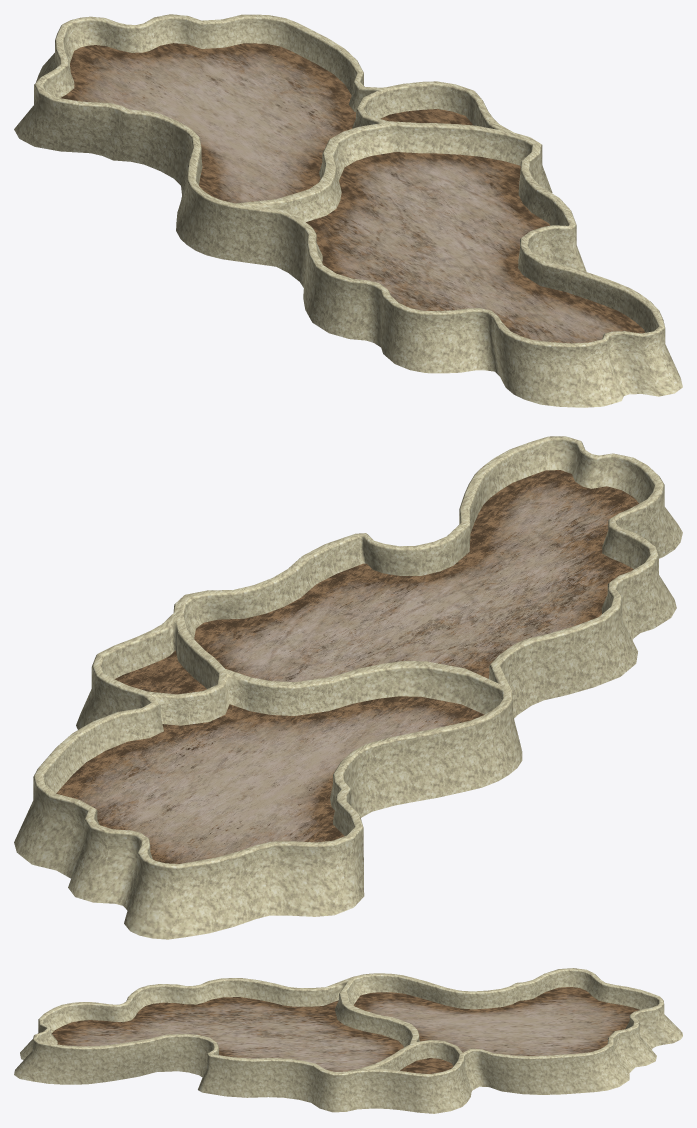
The model's file is Plates_Long.fbx.
3 renders of one model, top to bottom at view 1: azimuth 30°, elevation 25°; view 2: azimuth 150°, elevation 25°; view 3: azimuth 270°, elevation 25°, orthographic. The views are drawn at different scales.
Visible parts, largest first — view 1: Plates_Long_1; view 2: Plates_Long_1; view 3: Plates_Long_1.
Part boxes in pixels (bbox=[...]): Plates_Long_1: bbox=[14, 14, 682, 407]; Plates_Long_1: bbox=[14, 436, 682, 939]; Plates_Long_1: bbox=[14, 968, 682, 1113].
Bounding box in the file's own units: 20.14 × 2.83 × 49.55.
Materials: 2 (2 with a texture image).
